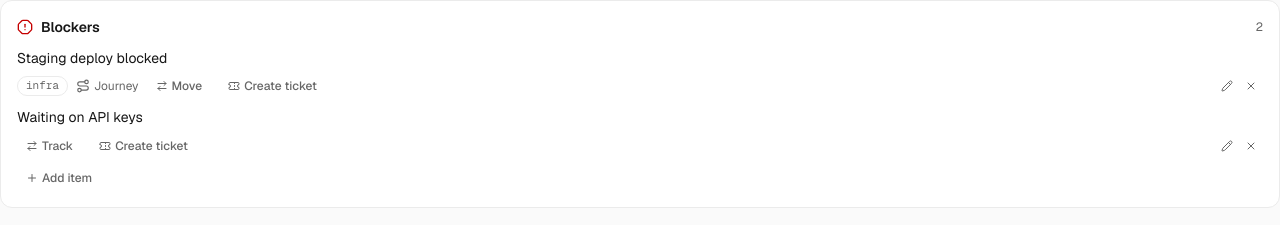
Test: SectionCard inline editing › edits an item: Enter saves the new text
The width and height of the screenshot is (1280, 225).
Click the button named "Edit item: Waiting on API keys": (1227, 146) [1215,134,1239,158]
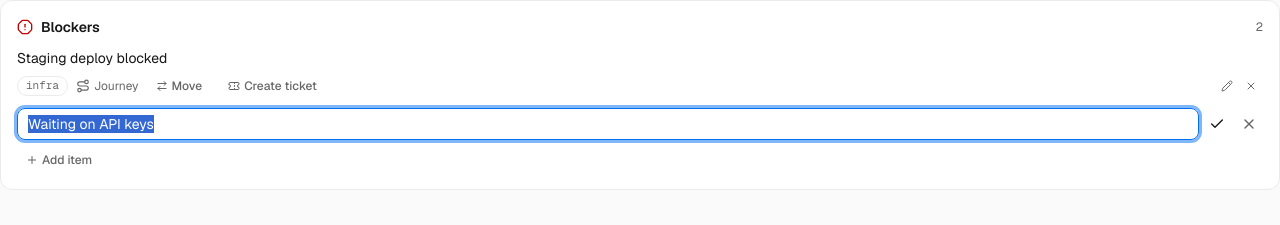
Replace the text in the field named "Edit item: Waiting on API keys" with "Waiting on Stripe keys": (608, 124) [17,108,1199,140]
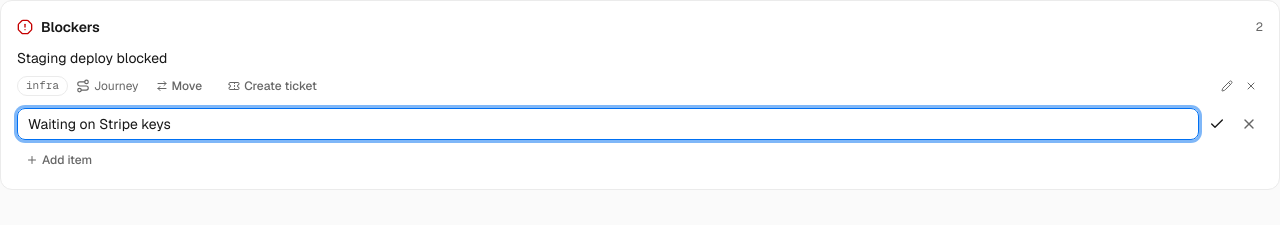
Submit the form from the field named "Edit item: Waiting on API keys", box [17,108,1199,140]
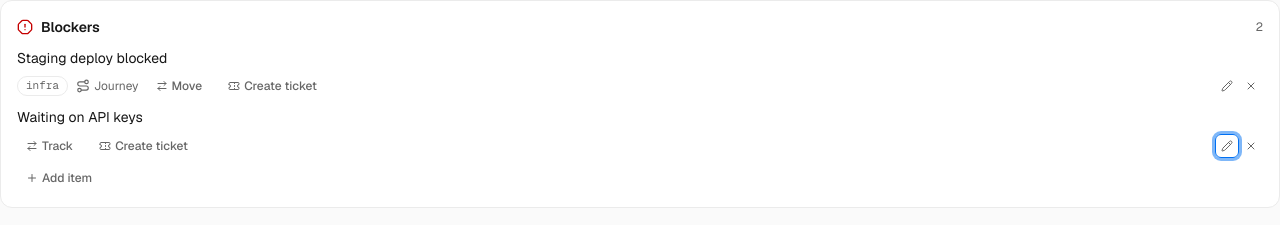
Expected: the field is gone
